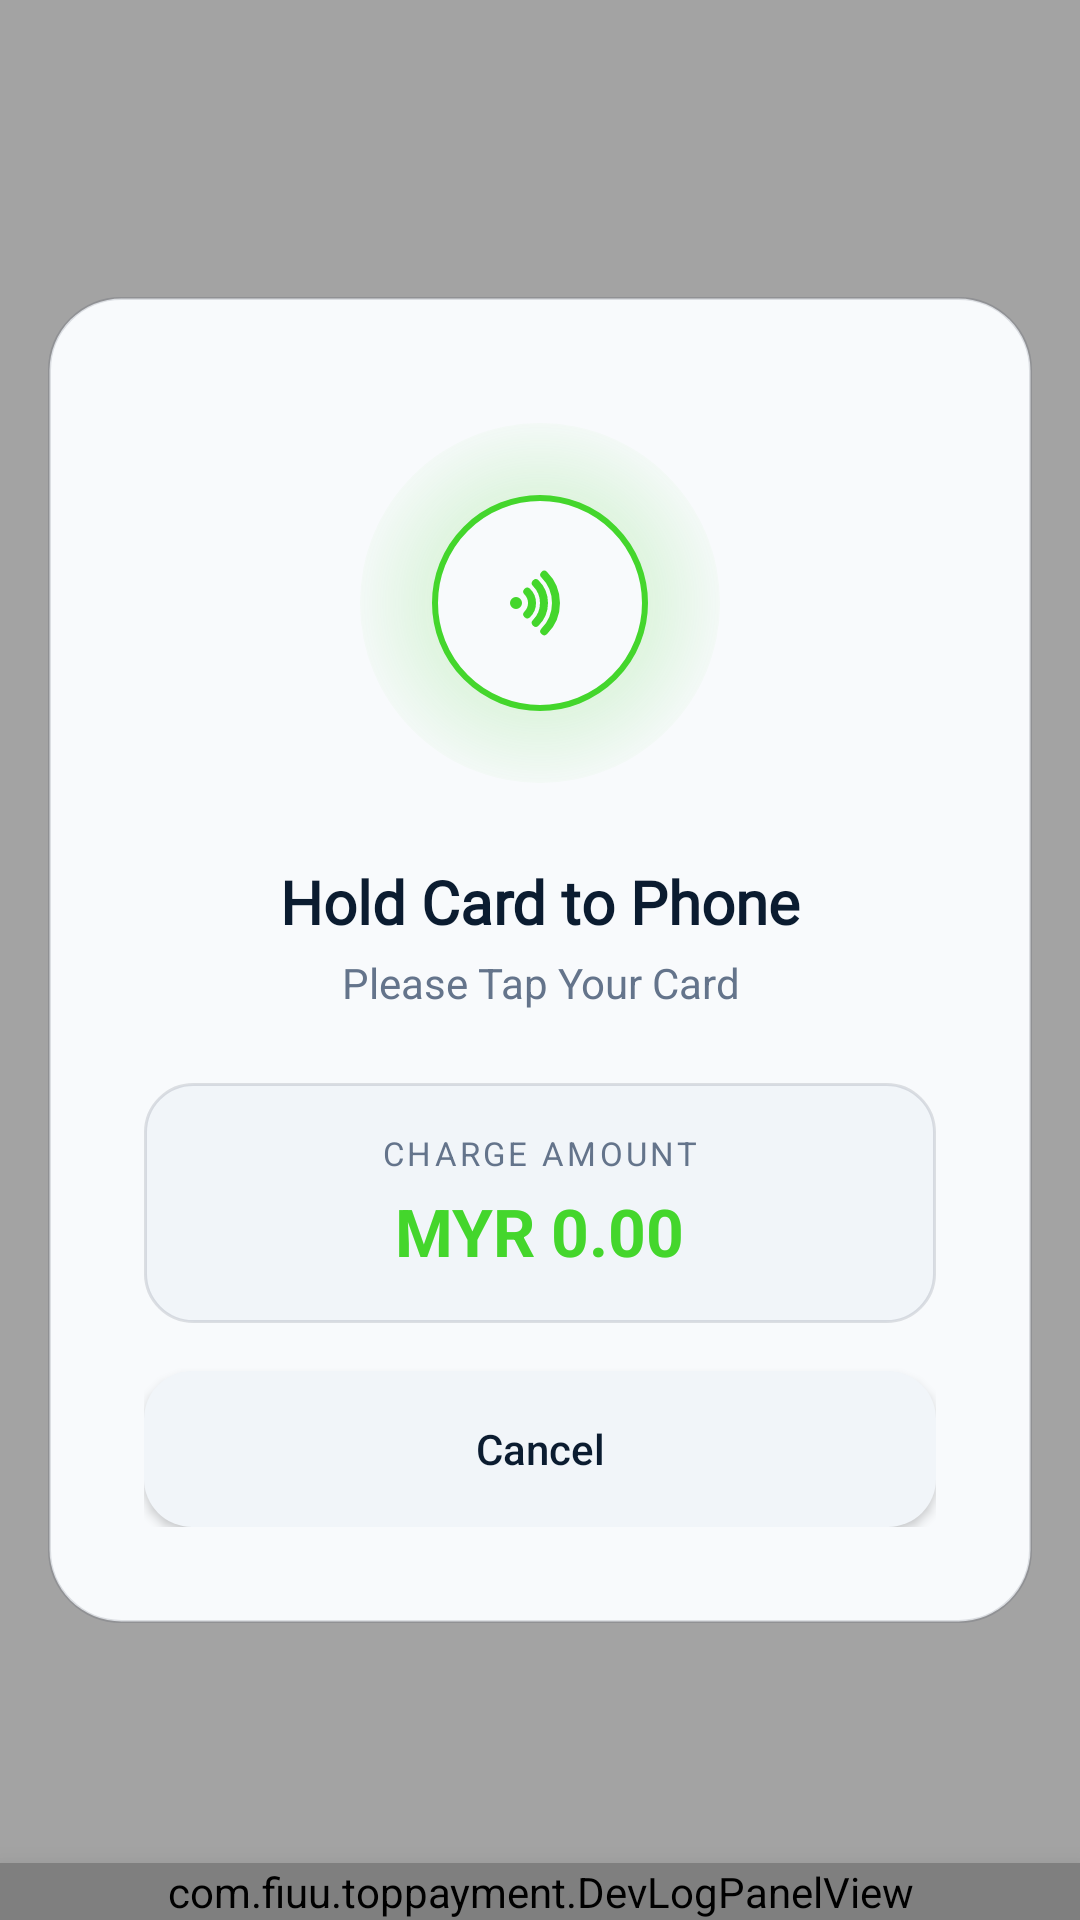

Named icons in this screenshot (1080×1920) and their centers, (x=x, y=y):
nfc wave: (x=535, y=603)
